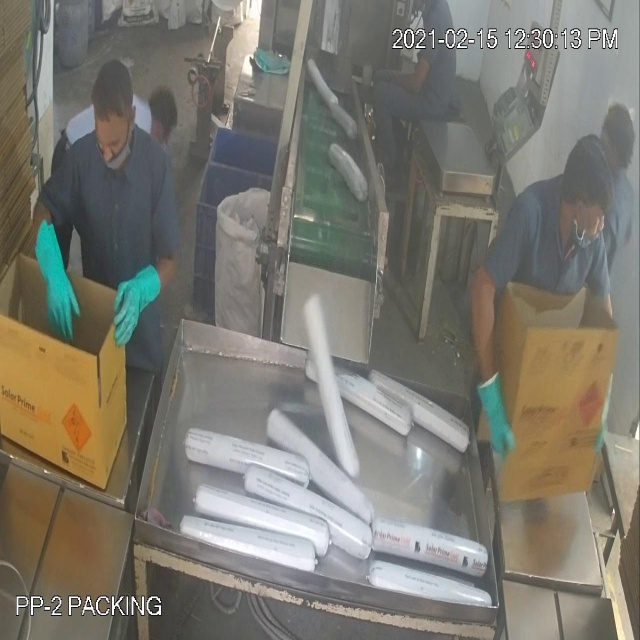Guantes: (30, 205, 84, 355), (466, 353, 526, 476), (105, 249, 161, 349)
Sin_guantes: (374, 57, 435, 100)
